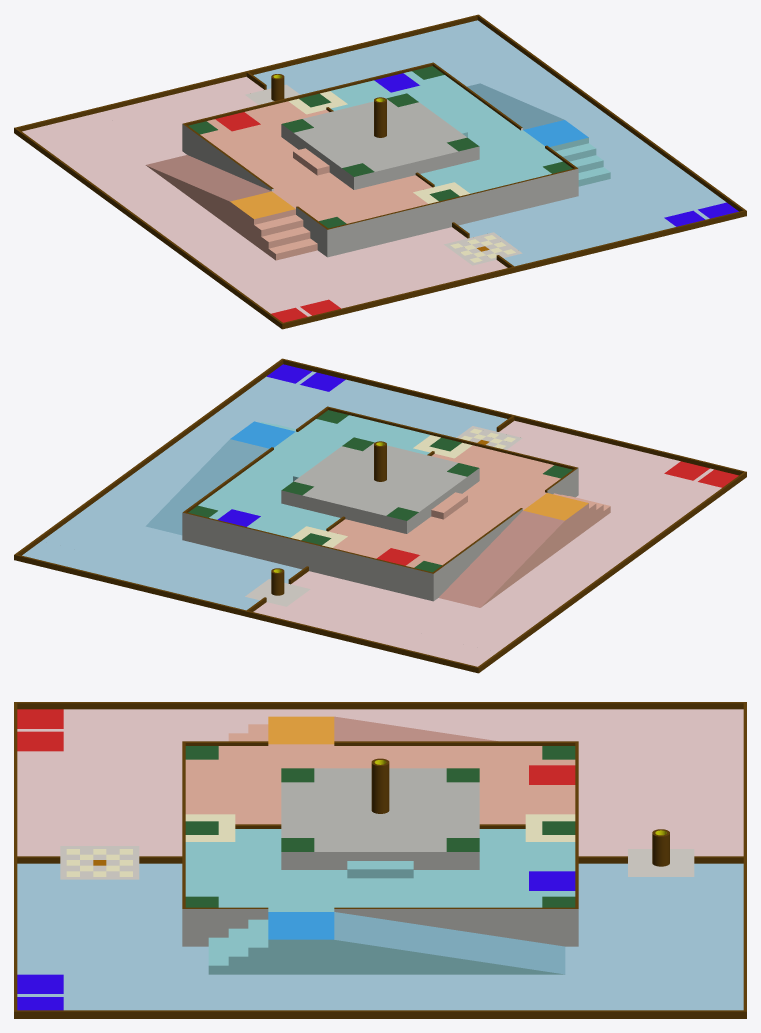
3 renders of one model, top to bottom at view 1: azimuth 30°, elevation 25°; view 2: azimuth 150°, elevation 25°; view 3: azimuth 270°, elevation 25°, orthographic. The views are drawn at different scales.
Parts seen in each view (by area): view 1: mesh178, mesh127, mesh160, mesh165, mesh28, mesh84, mesh190, mesh194, mesh148, mesh157, mesh105, mesh173 (+15 smaller); view 2: mesh178, mesh127, mesh160, mesh165, mesh28, mesh121, mesh148, mesh190, mesh137, mesh191, mesh157, mesh50 (+16 smaller); view 3: mesh127, mesh178, mesh165, mesh160, mesh28, mesh136, mesh137, mesh195, mesh190, mesh126, mesh174, mesh173 (+26 smaller).
Part boxes in pixels (box(x1,y1,x2,y2)): mesh178: box(46, 76, 507, 316); mesh127: box(253, 38, 726, 266); mesh160: box(200, 101, 432, 223); mesh165: box(330, 71, 562, 193); mesh28: box(294, 98, 466, 171); mesh84: box(327, 168, 578, 257); mesh190: box(14, 14, 746, 323); mesh194: box(282, 211, 746, 329); mesh148: box(146, 155, 271, 201); mesh157: box(146, 165, 275, 260); mesh105: box(394, 20, 501, 58); mesh173: box(22, 112, 124, 148); mesh178: box(253, 420, 721, 652); mesh127: box(42, 371, 507, 610); mesh160: box(328, 445, 560, 567); mesh165: box(198, 415, 430, 537); mesh28: box(294, 442, 466, 515); mesh121: box(182, 512, 433, 601); mesh148: box(439, 510, 564, 607); mesh190: box(14, 358, 746, 667); mesh137: box(145, 439, 268, 535); mesh191: box(14, 555, 478, 673); mesh157: box(481, 503, 610, 607); mesh50: box(281, 490, 406, 533); mesh127: box(17, 863, 743, 1010); mesh178: box(17, 709, 743, 856); mesh165: box(185, 829, 575, 911); mesh160: box(185, 744, 575, 824); mesh28: box(281, 768, 479, 851); mesh136: box(208, 939, 564, 974); mesh137: box(334, 912, 565, 974); mesh195: box(14, 1011, 746, 1018); mesh190: box(14, 702, 746, 1011); mesh126: box(334, 909, 578, 946); mesh174: box(17, 703, 743, 709); mesh173: box(677, 709, 743, 765).
Bounding box in the file's own units: 11.1 × 1.7 × 11.1.
